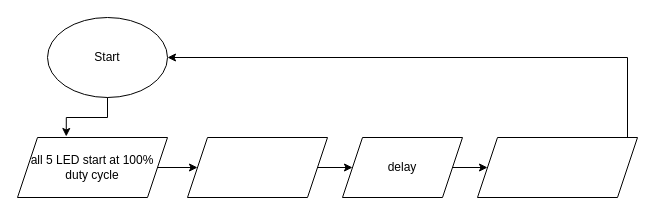
Some shapes in this 655 by 215 pixel diagram are drawn without their labels. The box of each missing label's shape, as (x1, y1, x2, y2) in pixels:
Duty cycle decreases until all LED appear off: (186, 136, 328, 198)
Duty cycle increases until 100%: (476, 136, 638, 198)
